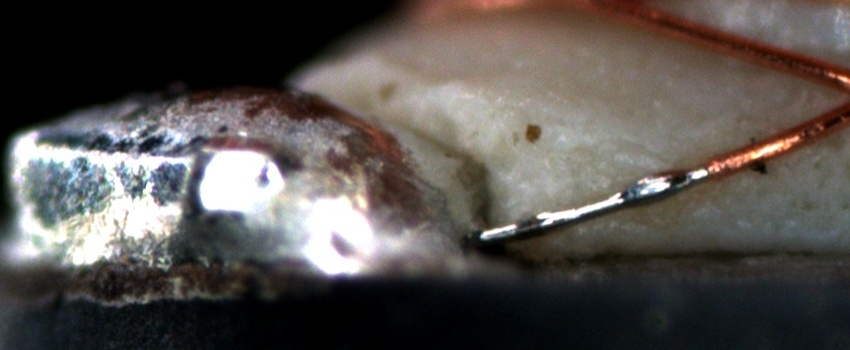TS: (467, 165, 708, 242)
TTCW: (471, 147, 752, 246)
